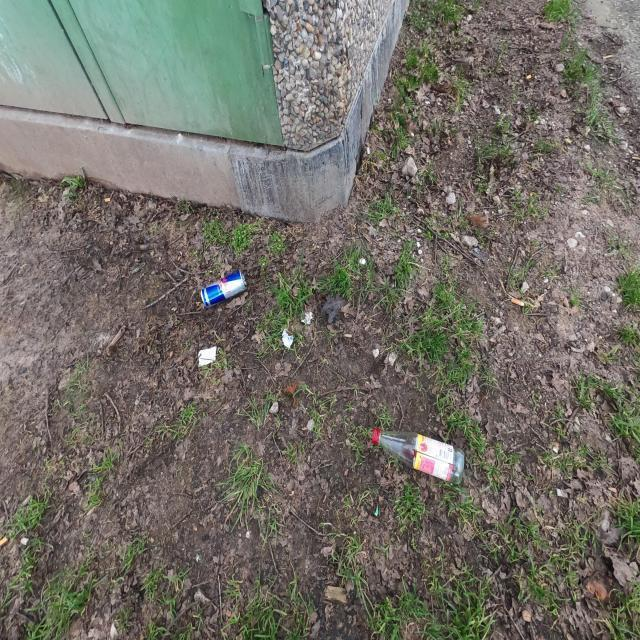Can-Metal: (200, 268, 248, 310)
Paper: (198, 346, 217, 368)
Plastic: (282, 328, 294, 348), (301, 310, 314, 326), (373, 502, 379, 516)
